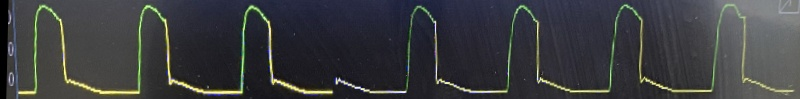normal_pressure: (21, 0, 800, 99)
